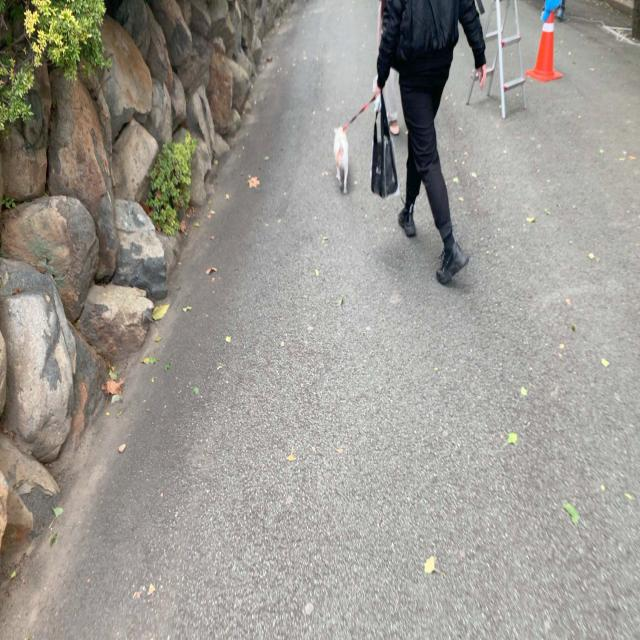Leashed_Dog: (332, 64, 424, 198)
